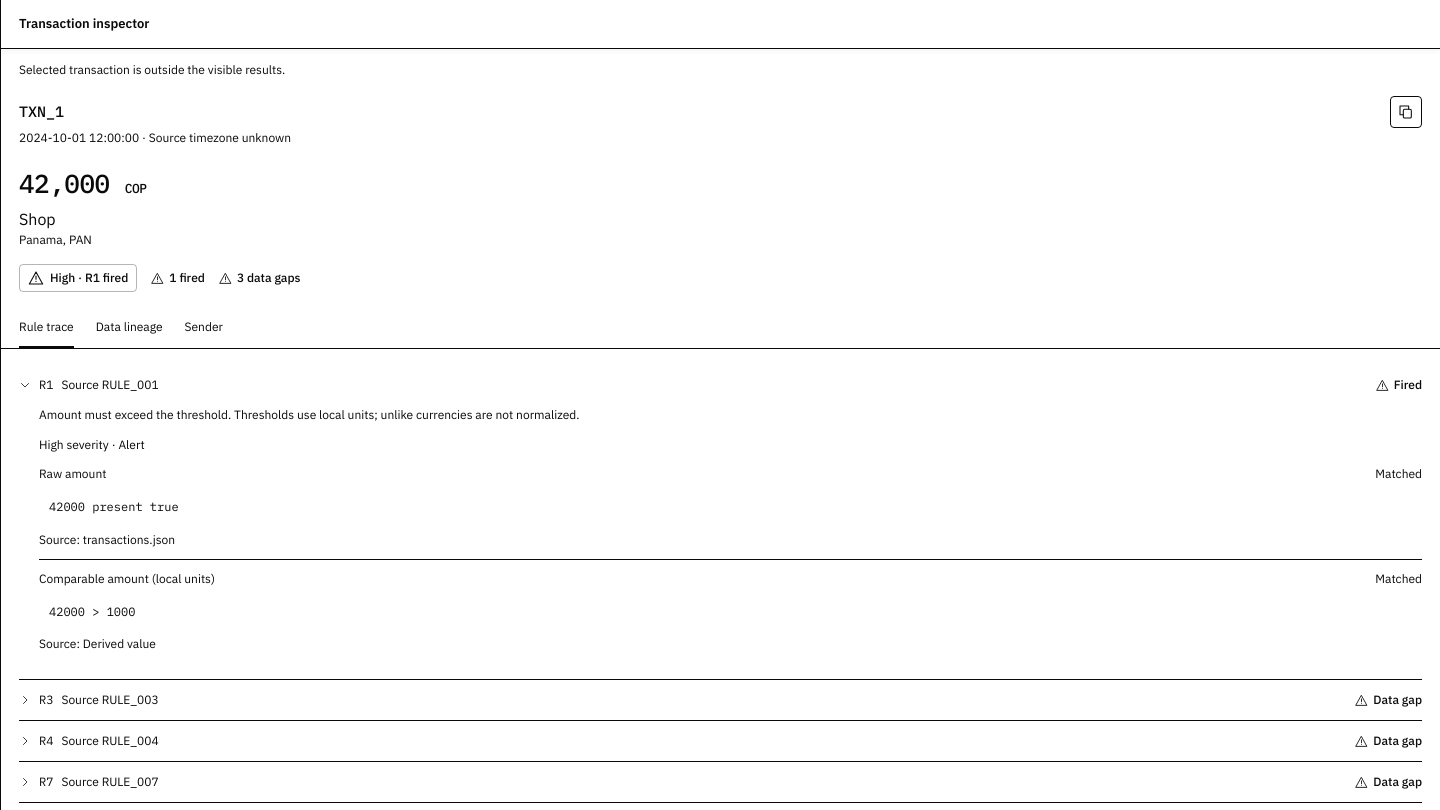
forensic inspector › exposes separate raw/features, real conflicts, null receiver, and zero terminal
The width and height of the screenshot is (1440, 810).
Check: the text "Selected transaction is outside the visible results." is shown, box [19,62,285,77]
Click the tab "Data lineage": (129, 328) [96,308,162,348]
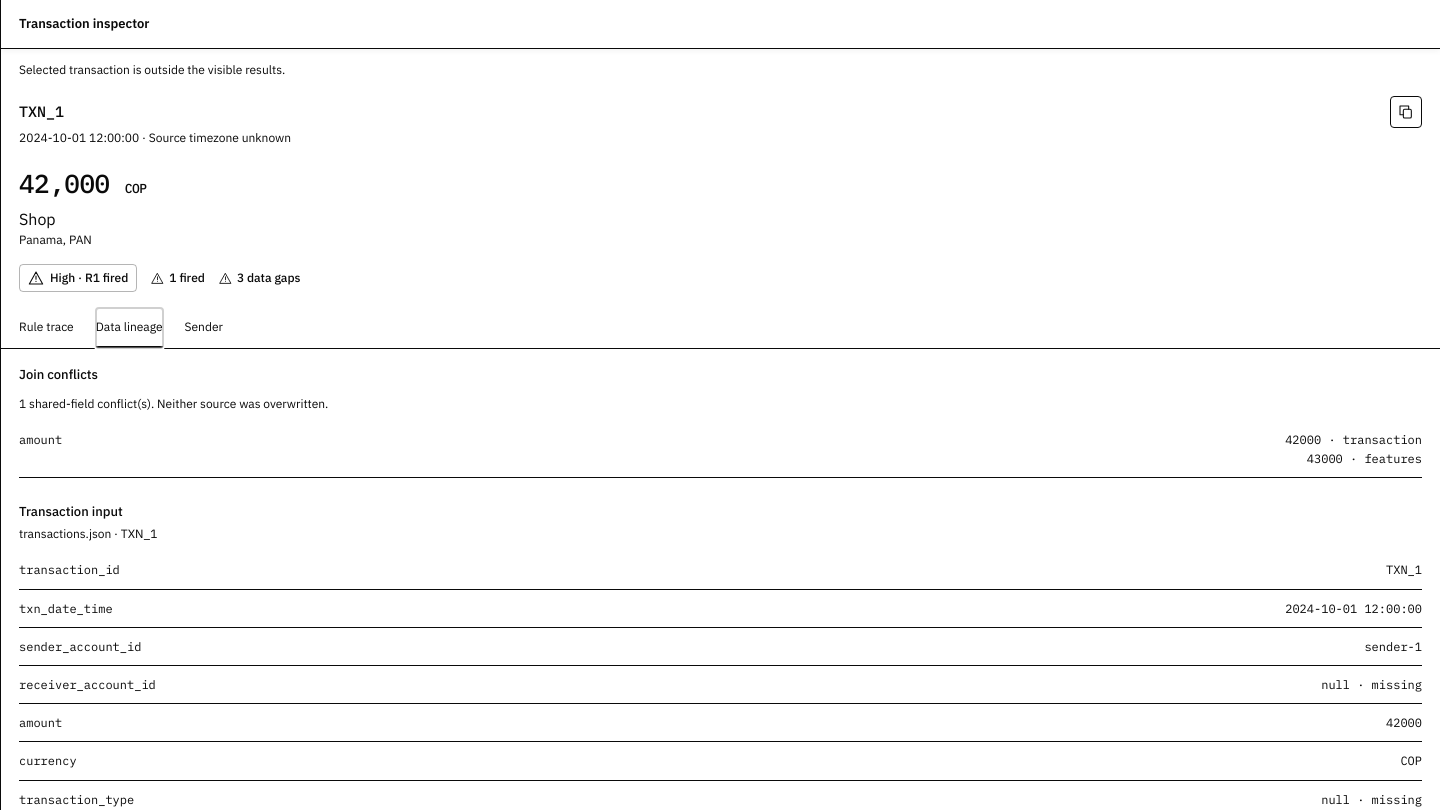
Check: the element "Transaction input" shows "42000", box [1386,715,1422,730]
Check: the text "receiver_account_id" shows "null · missing", box [1321,677,1422,692]
Check: the element "Join conflicts" shows "amount", box [19,432,62,446]
